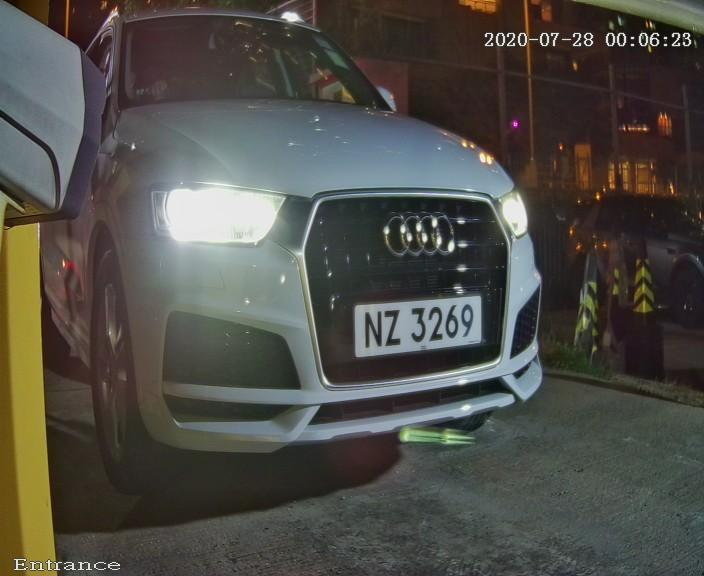privatecar: (54, 1, 576, 502)
